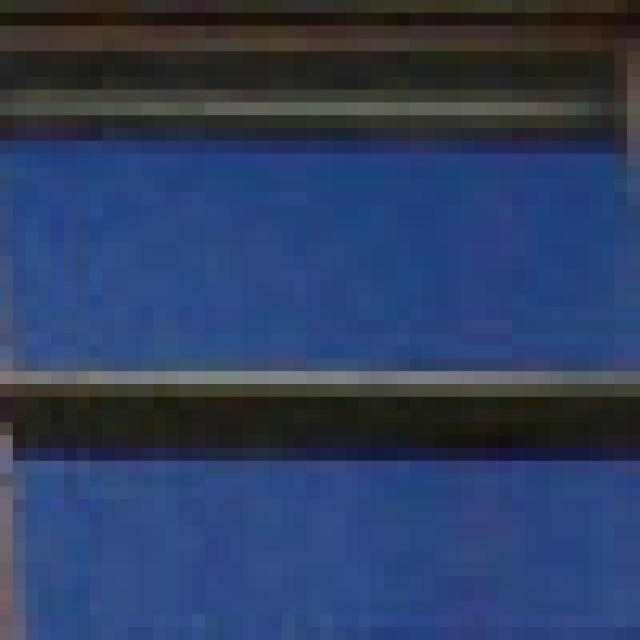no_fire: (10, 33, 637, 640)
